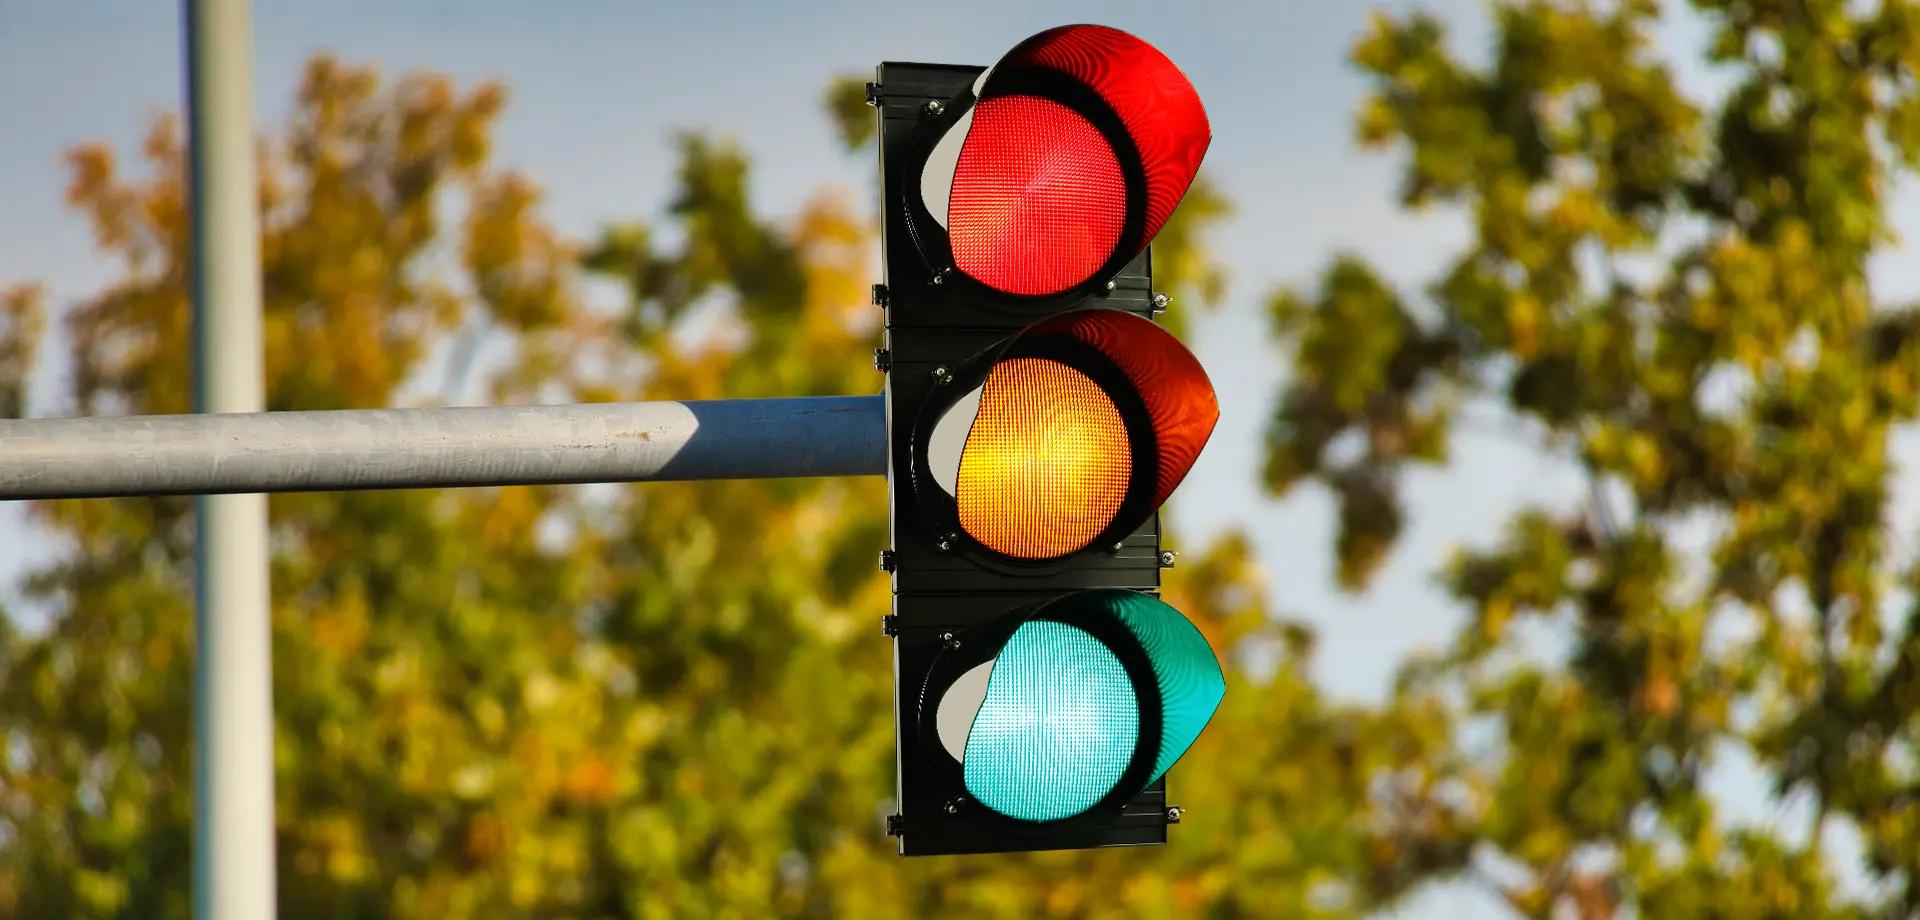traffic light: (827, 9, 1269, 871)
